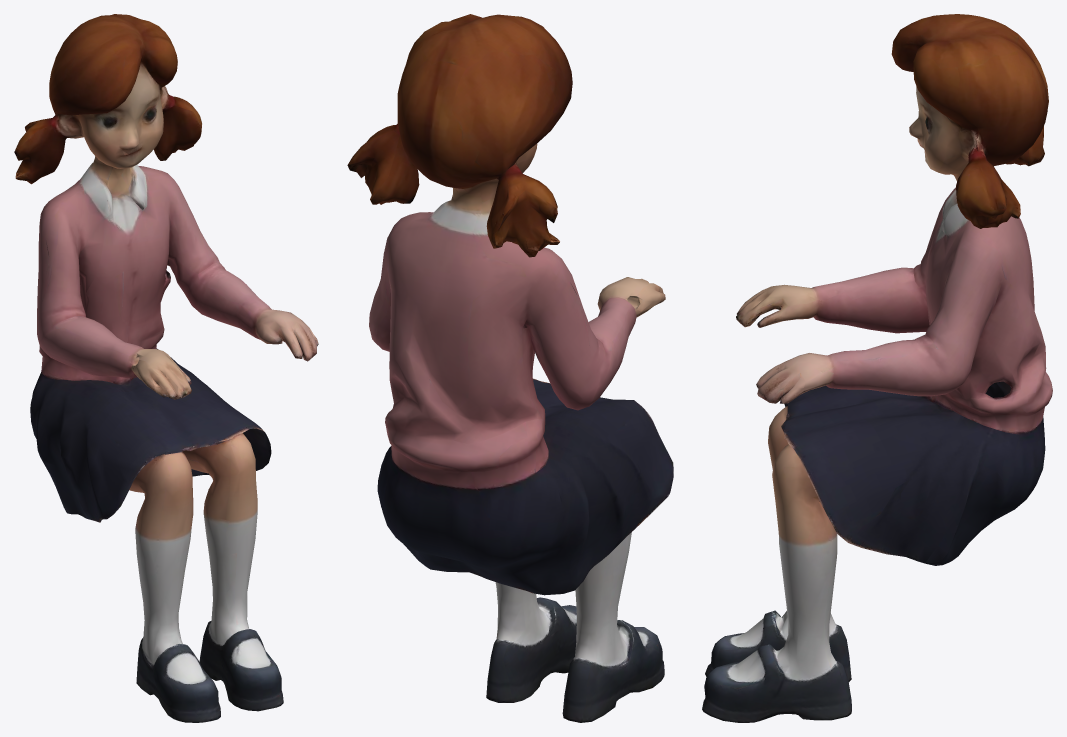
File: kid_girl.glb
3 views of the same model, side by side, from view 1: azimuth 30°, elevation 25°; view 2: azimuth 150°, elevation 25°; view 3: azimuth 270°, elevation 25° (orthographic). The views are drawn at different scales.
Visible parts, largest first — view 1: geometry_0; view 2: geometry_0; view 3: geometry_0.
Boxes of the visible parts, x1,y1,x2,y2 form: geometry_0: [14, 14, 318, 722]; geometry_0: [347, 14, 673, 722]; geometry_0: [702, 14, 1052, 722].
Bounding box in the file's own units: 0.4205 × 1.18 × 0.5607.
1 material, 1 textured.
